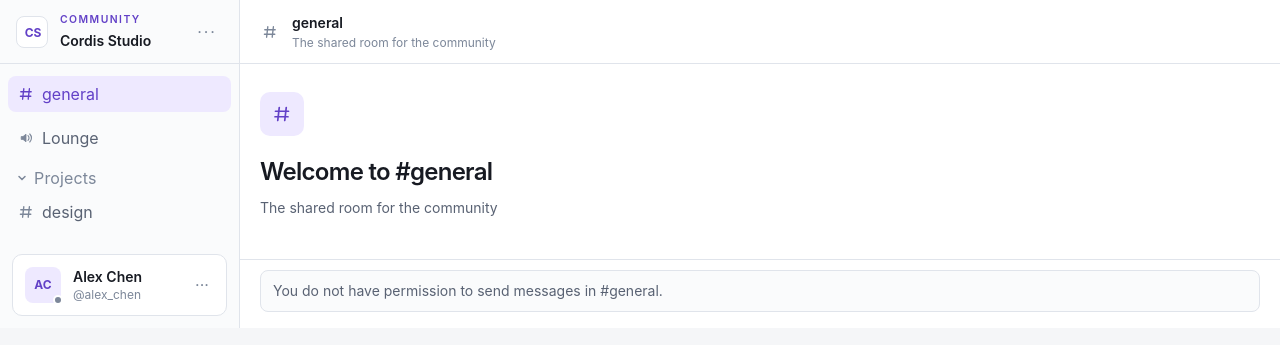
Test: GuildPage › shows community settings for a non-owner with Manage community
Click the button named "Community menu".
click(207, 32)  # box top-left (191, 16), bottom-right (223, 48)
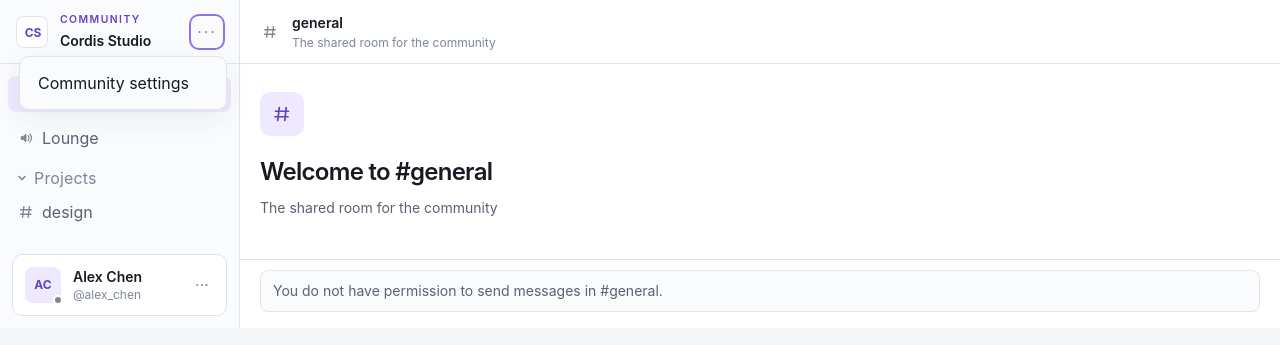
Now the menu item "Community settings" is shown, box top-left (26, 63), bottom-right (220, 103)
